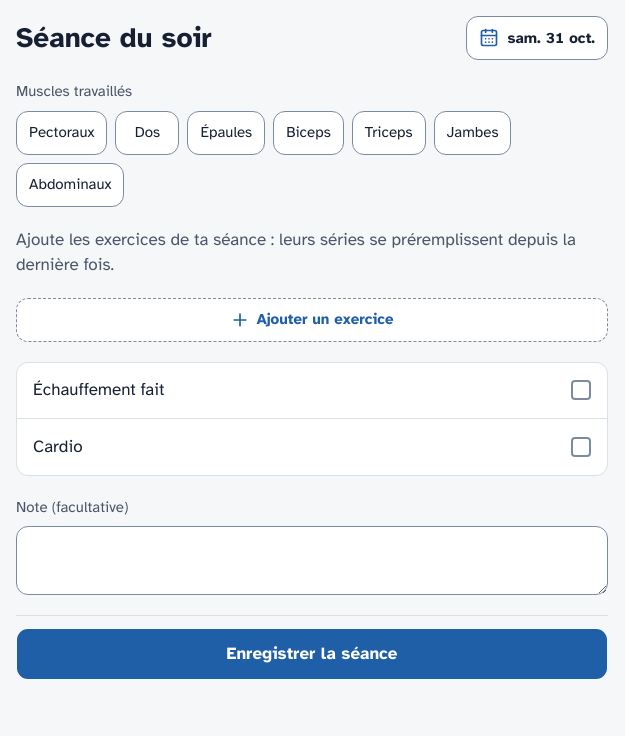
Test: WorkoutEditor › la recherche filtre tes exercices et le catalogue ; un exercice déjà créé n'est pas reproposé
This screenshot has width=625, height=736.
Click the button "Ajouter un exercice" at (312, 320), box x1=16 y1=298 x2=608 y2=342
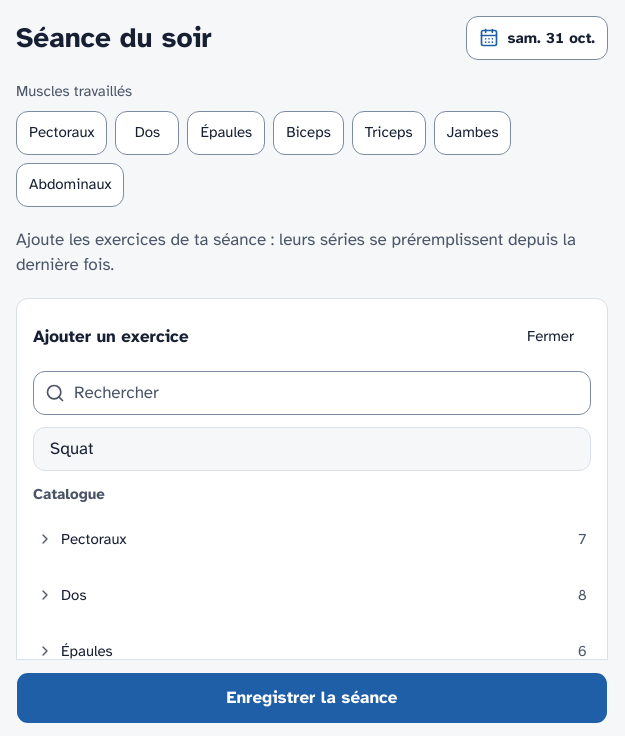
Type "squ" into the search field named "Rechercher un exercice" at (312, 392), box x1=33 y1=370 x2=591 y2=414
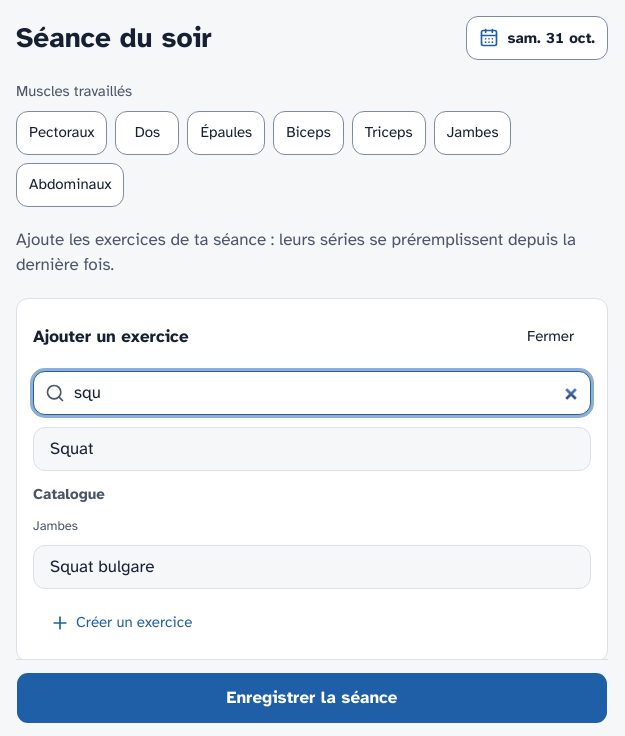
Now the buttons read "Squat", in this order, box x1=33 y1=426 x2=591 y2=470
Now the buttons read "Squat bulgare", in this order, box x1=33 y1=544 x2=591 y2=588
